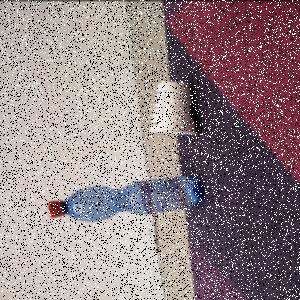Cup: (149, 82, 199, 135)
Plastic-bottle: (49, 175, 207, 223)
